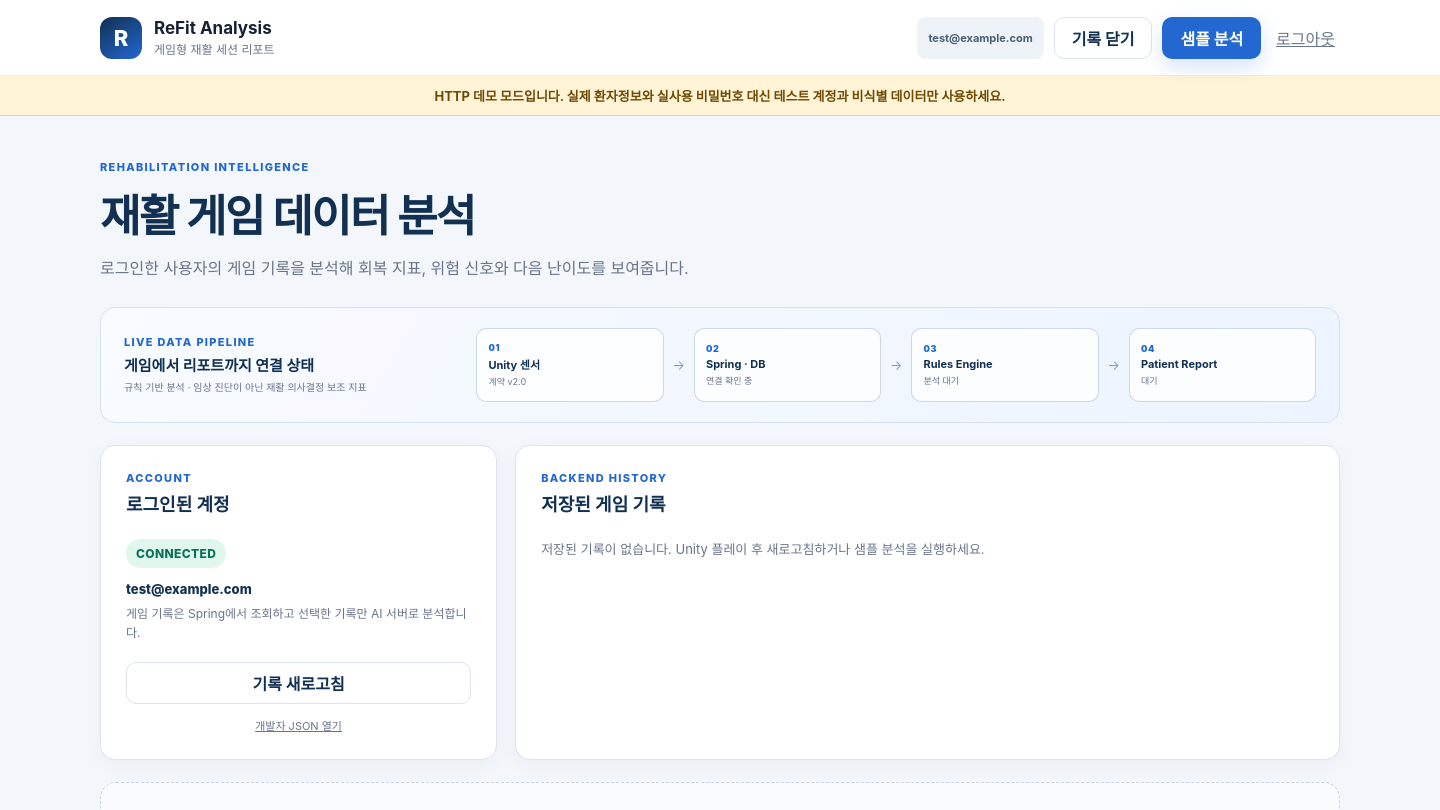
Scenario: does not render malformed legacy timestamps as invalid or unrealistic dates
Click the button "기록 새로고침" at (299, 683), box [126,662,471,704]
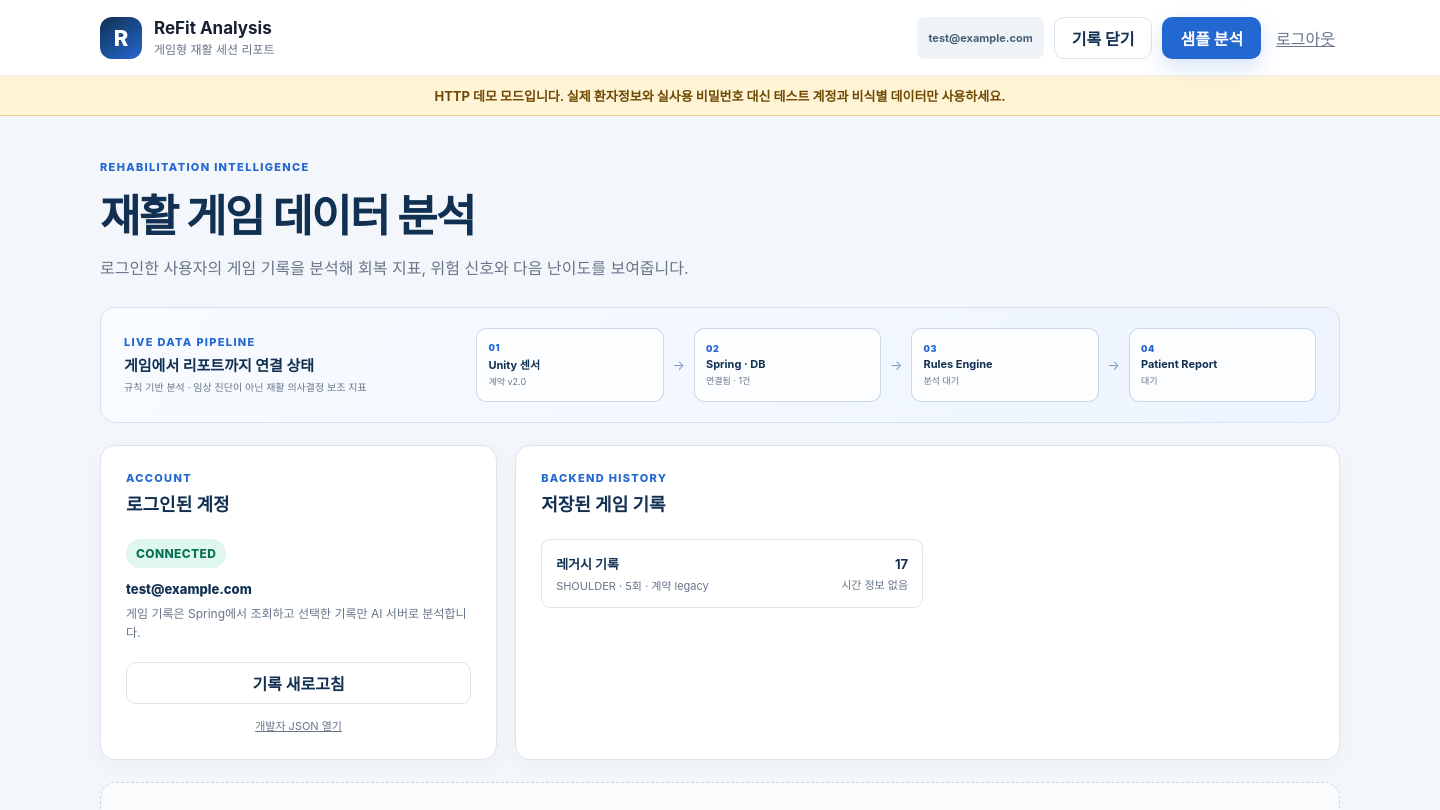
expect the text "레거시 기록" is shown: met, box [556,556,619,572]
expect the text "시간 정보 없음" is shown: met, box [841,576,908,592]
